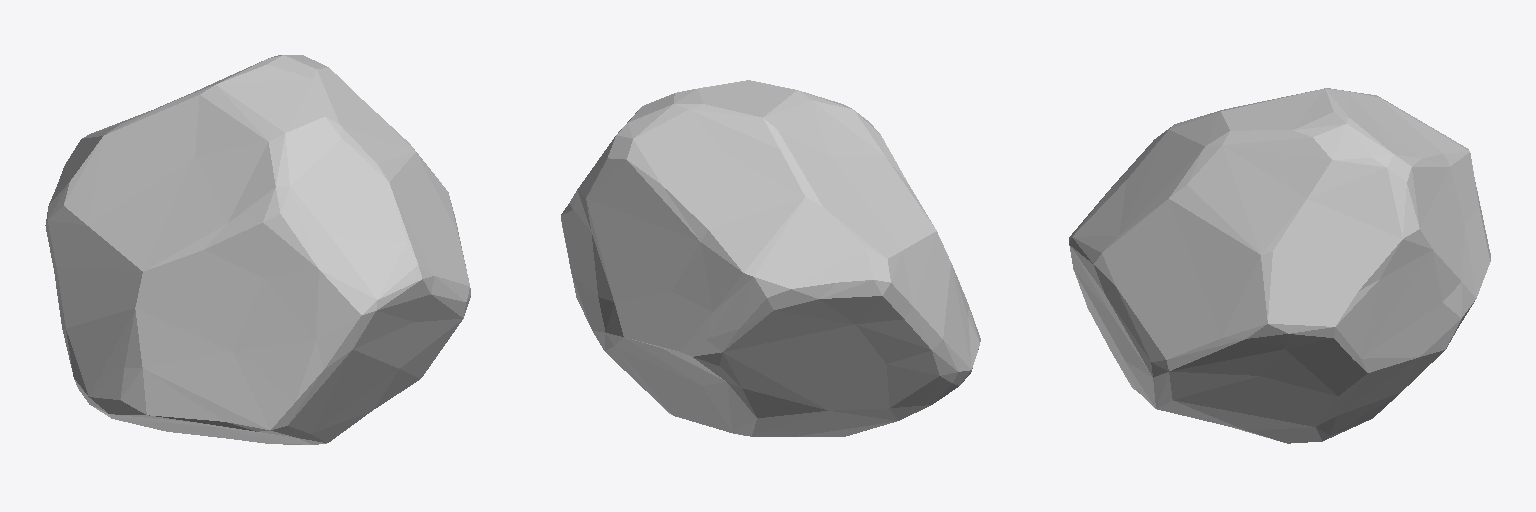
Rendered from Stone_03.obj.
The picture shows the model from 3 angles: view 1: azimuth 30°, elevation 25°; view 2: azimuth 150°, elevation 25°; view 3: azimuth 270°, elevation 25°; orthographic projection.
Visible parts, largest first — view 1: Stone_3_Icosphere.078; view 2: Stone_3_Icosphere.078; view 3: Stone_3_Icosphere.078.
Boxes of the visible parts, <box> form: Stone_3_Icosphere.078: <box>45,55,470,444</box>; Stone_3_Icosphere.078: <box>561,80,980,436</box>; Stone_3_Icosphere.078: <box>1069,88,1490,443</box>.
Size of the model in its own units: 2.83 by 2.36 by 2.78.